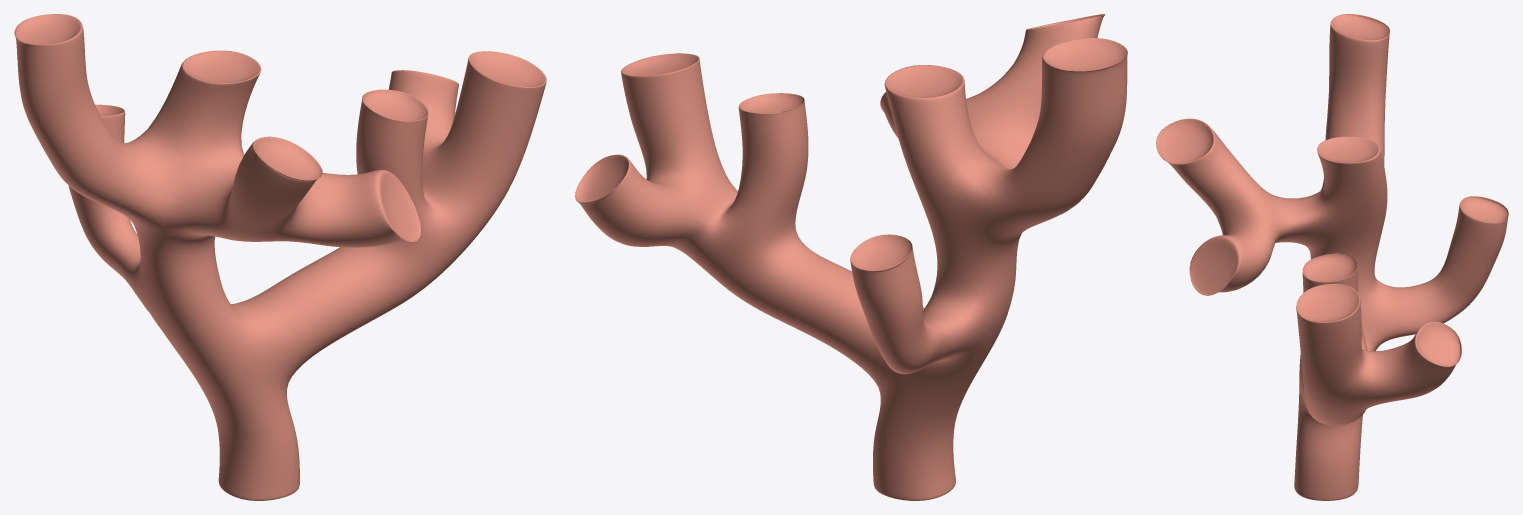
File: coral_NadiaMulyadi_140180220001.fbx
The picture shows the model from 3 angles, left to right: view 1: azimuth 30°, elevation 25°; view 2: azimuth 150°, elevation 25°; view 3: azimuth 270°, elevation 25°; orthographic projection. The views are drawn at different scales.
Parts seen in each view (by area): view 1: Cube; view 2: Cube; view 3: Cube.
Boxes of the visible parts, x1,y1,x2,y2 form: Cube: (14, 14, 546, 500); Cube: (575, 14, 1127, 500); Cube: (1156, 14, 1508, 500).
Size of the model in its own units: 1326 by 1225 by 1007.
